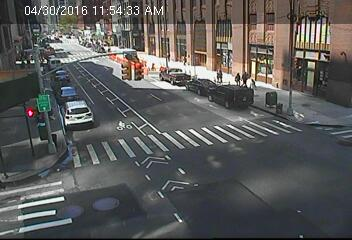neg: (145, 104, 166, 132), (324, 37, 344, 63), (87, 166, 106, 191), (217, 1, 235, 26), (313, 111, 330, 133), (181, 181, 198, 203), (142, 34, 158, 55), (109, 110, 123, 128), (24, 165, 37, 182), (292, 178, 304, 195), (238, 152, 250, 168), (283, 21, 294, 35), (79, 21, 89, 34), (29, 105, 38, 117), (200, 110, 209, 122), (86, 85, 95, 97), (45, 36, 53, 48), (173, 78, 180, 88), (121, 9, 128, 19), (97, 58, 103, 66), (119, 47, 124, 54)
pos: (213, 68, 225, 83), (240, 69, 251, 84), (247, 76, 257, 90), (233, 71, 242, 83), (22, 58, 31, 69), (19, 58, 26, 68)
